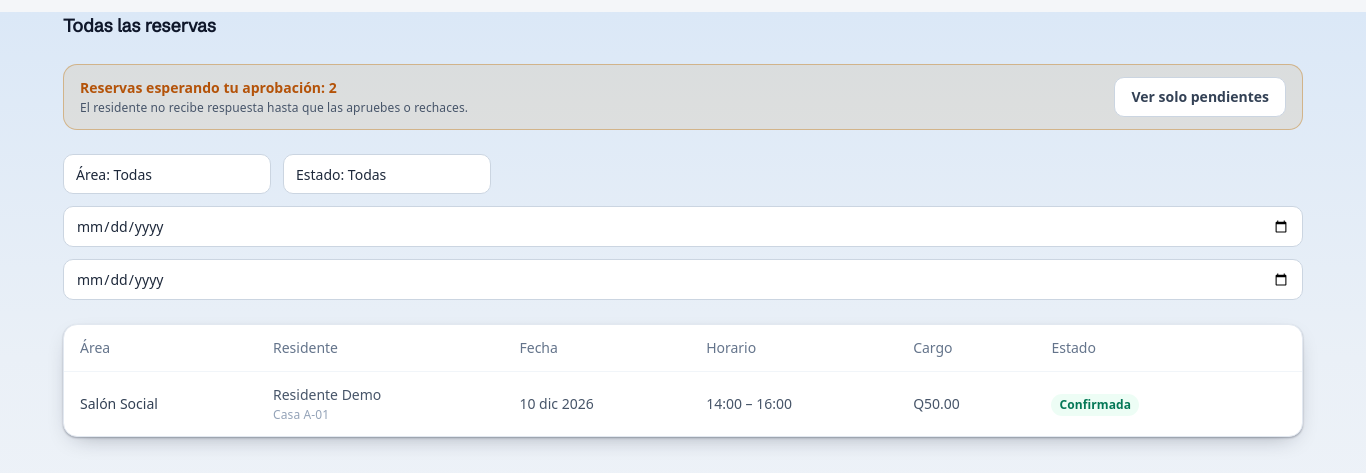
Test: AdminReservasPage › avisa cuántas reservas esperan aprobación y el botón deja solo las pendientes
Expected: the message shows "Reservas esperando tu aprobación: 2", [63,64,1303,130]
What coordinates should you click on to do the following:
click the button "Ver solo pendientes"
I would click on:
 (1200, 97)
Its box is [1114,77,1286,117].
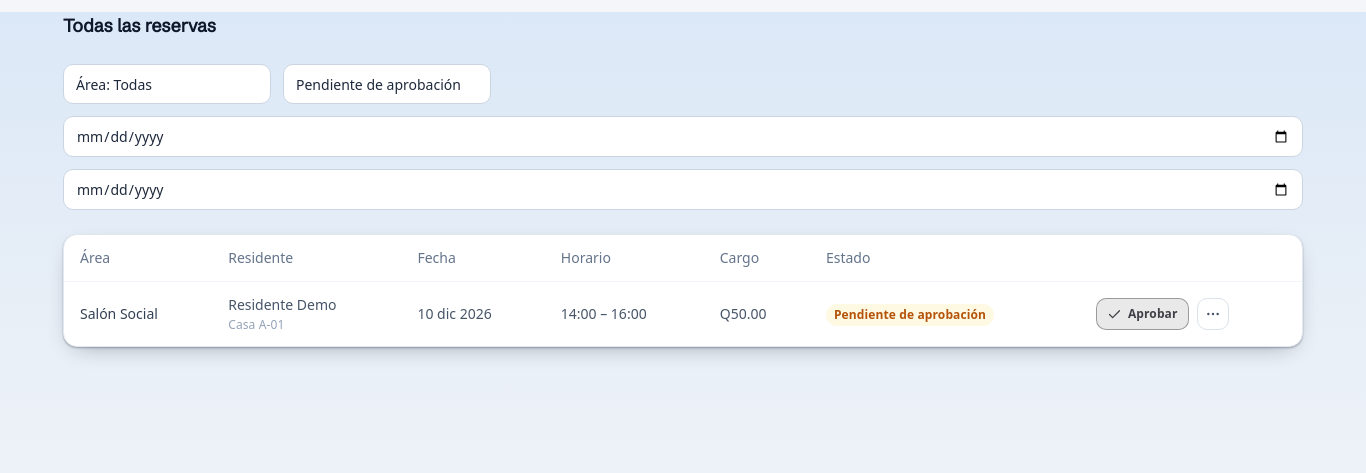
Expected: the message is gone
